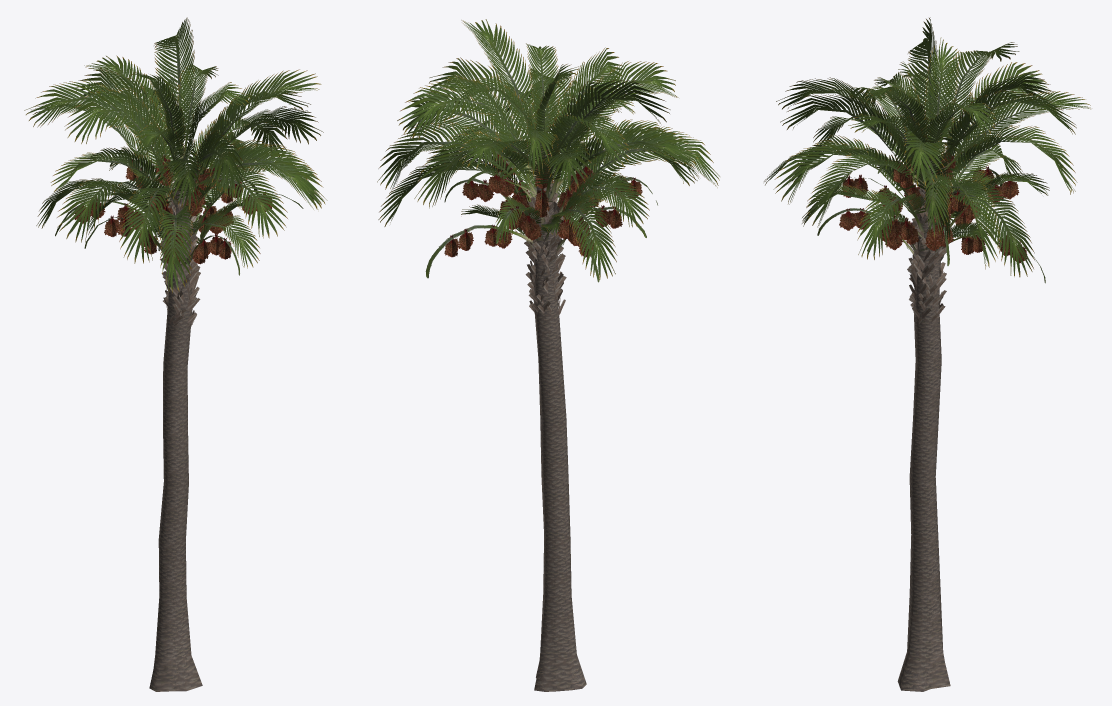
File: Phoenix_Dactylifera_Autumn_Adult.glb
3 views of the same model, side by side, from view 1: azimuth 30°, elevation 25°; view 2: azimuth 150°, elevation 25°; view 3: azimuth 270°, elevation 25° (orthographic). The views are drawn at different scales.
Visible parts, largest first — view 1: Phoenix_Dactylifera_Autumn_Adult__LOD3; view 2: Phoenix_Dactylifera_Autumn_Adult__LOD3; view 3: Phoenix_Dactylifera_Autumn_Adult__LOD3.
Part boxes in pixels (<box>): Phoenix_Dactylifera_Autumn_Adult__LOD3: <box>24,17,327,691</box>; Phoenix_Dactylifera_Autumn_Adult__LOD3: <box>377,19,719,691</box>; Phoenix_Dactylifera_Autumn_Adult__LOD3: <box>764,17,1090,691</box>.
Bounding box in the file's own units: 11.51 × 22.02 × 10.8.
Materials: 3 (3 with a texture image).
